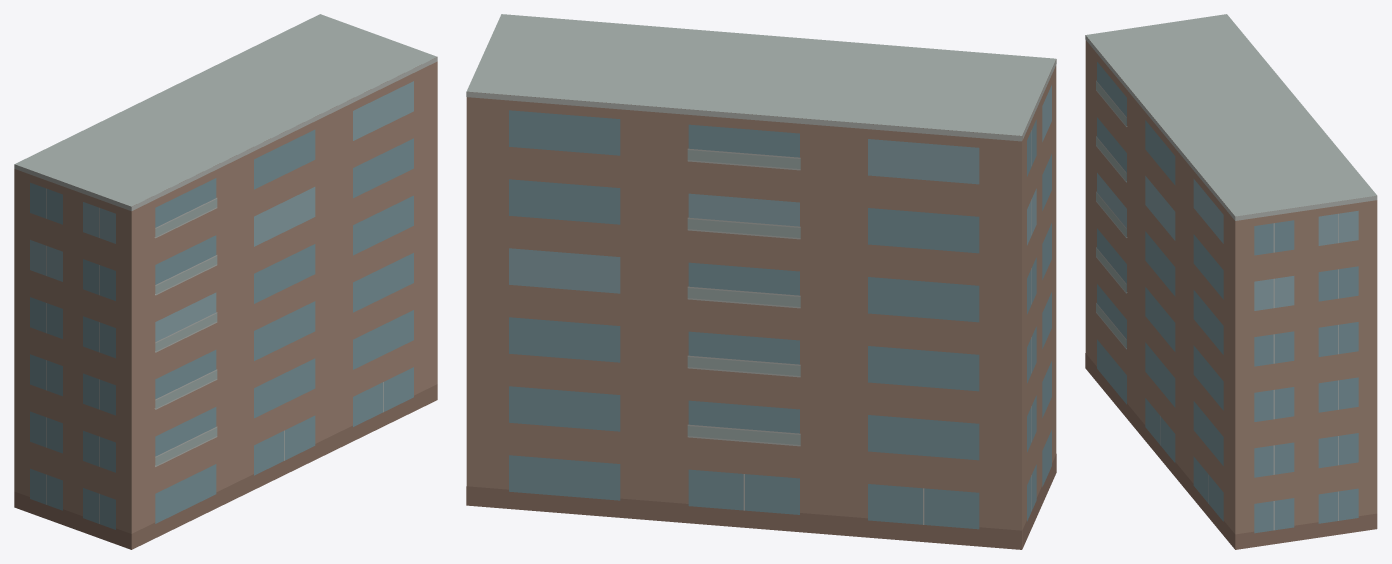
The model's file is survey-upis-33032373.glb.
The picture shows the model from 3 angles, left to right: view 1: azimuth 30°, elevation 25°; view 2: azimuth 150°, elevation 25°; view 3: azimuth 270°, elevation 25°; orthographic projection. The views are drawn at different scales.
Visible parts, largest first — view 1: survey-upis-33032373.tmp; view 2: survey-upis-33032373.tmp; view 3: survey-upis-33032373.tmp.
Boxes of the visible parts, left/top/right/bottom form: survey-upis-33032373.tmp: left=14, top=14, right=437, bottom=549; survey-upis-33032373.tmp: left=466, top=14, right=1056, bottom=549; survey-upis-33032373.tmp: left=1085, top=14, right=1377, bottom=549.
Bounding box in the file's own units: 23.86 × 18.3 × 14.53.
